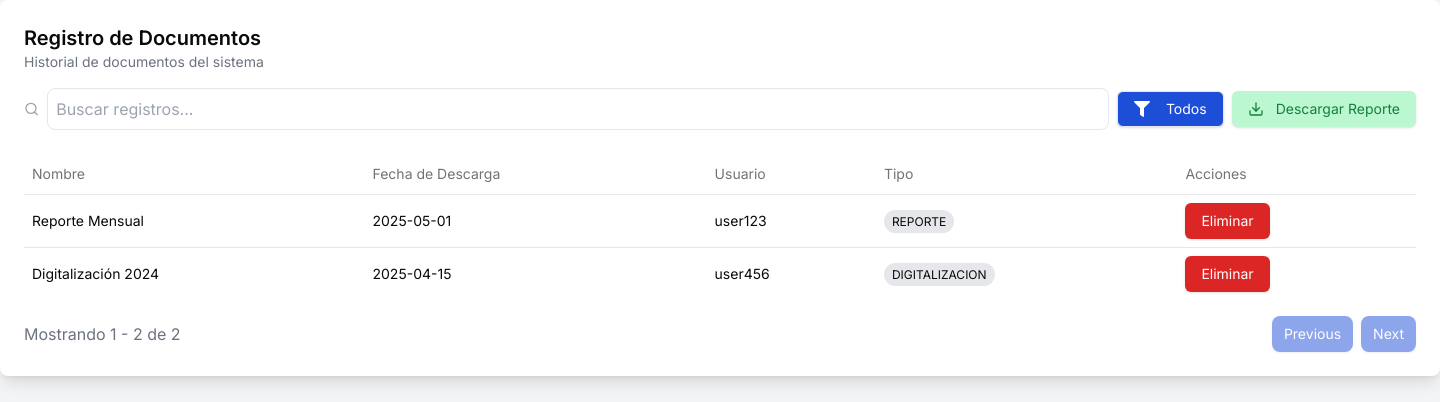
it: DocumentsPage Component › DP-03: Filtrar por tipo - Elegir tipo REPORTE
This screenshot has width=1440, height=402.
// Abrir el menú
Click the button "Todos" at (1170, 109), box [1117,91,1224,127]
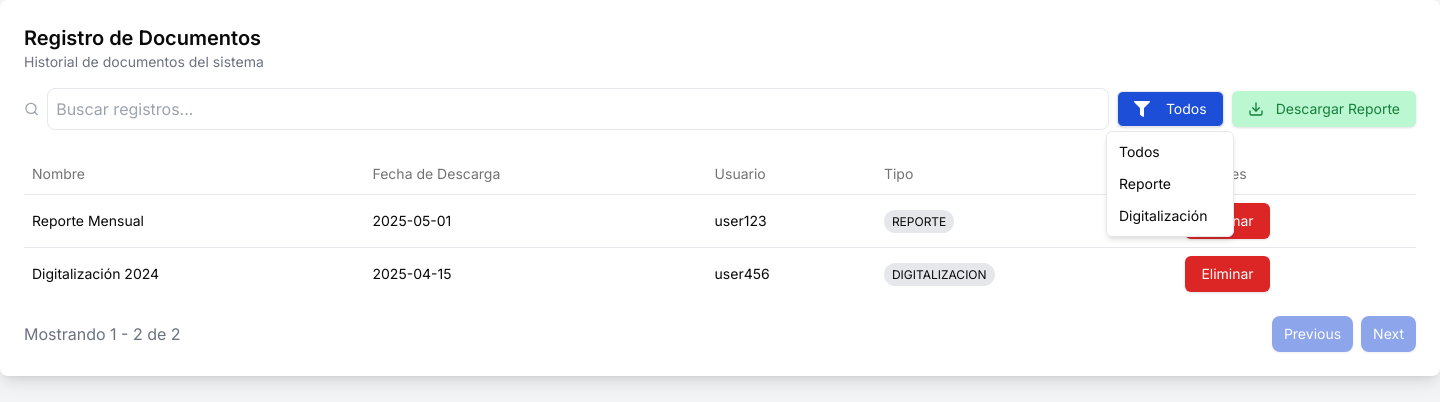
Expected: the menu item "Reporte" is shown
Click the menu item "Reporte" at (1170, 184), box [1111,168,1229,200]
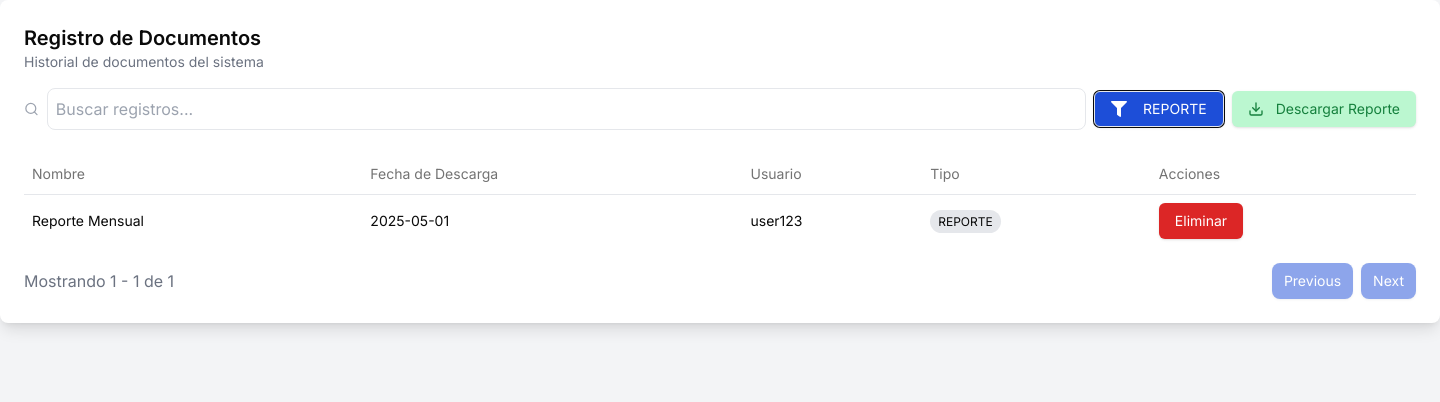
Expected: the button "REPORTE" is shown, [1094,91,1224,127]
Expected: the number of rows is 2, [24,154,1416,194]; [24,194,1416,246]
Expected: the text "Digitalización 2024" is gone
